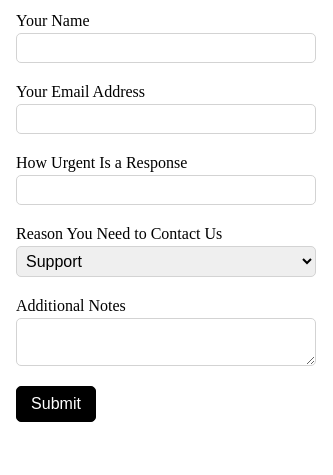
Test: ContactUs › When submit without filling in fields should display errors
What coordinates should you click on to do the following:
click the button "Submit"
I would click on:
 (56, 404)
Its box is top-left (16, 386), bottom-right (96, 422).
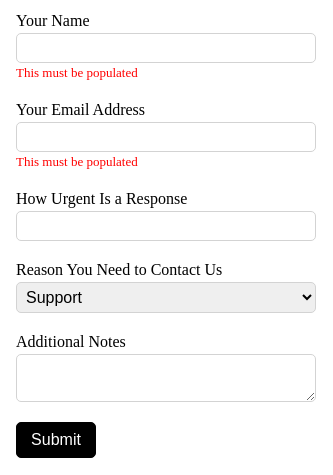
Check: the text "This must be populated" is shown 2 times, box top-left (16, 65), bottom-right (138, 80); top-left (16, 154), bottom-right (138, 169)
